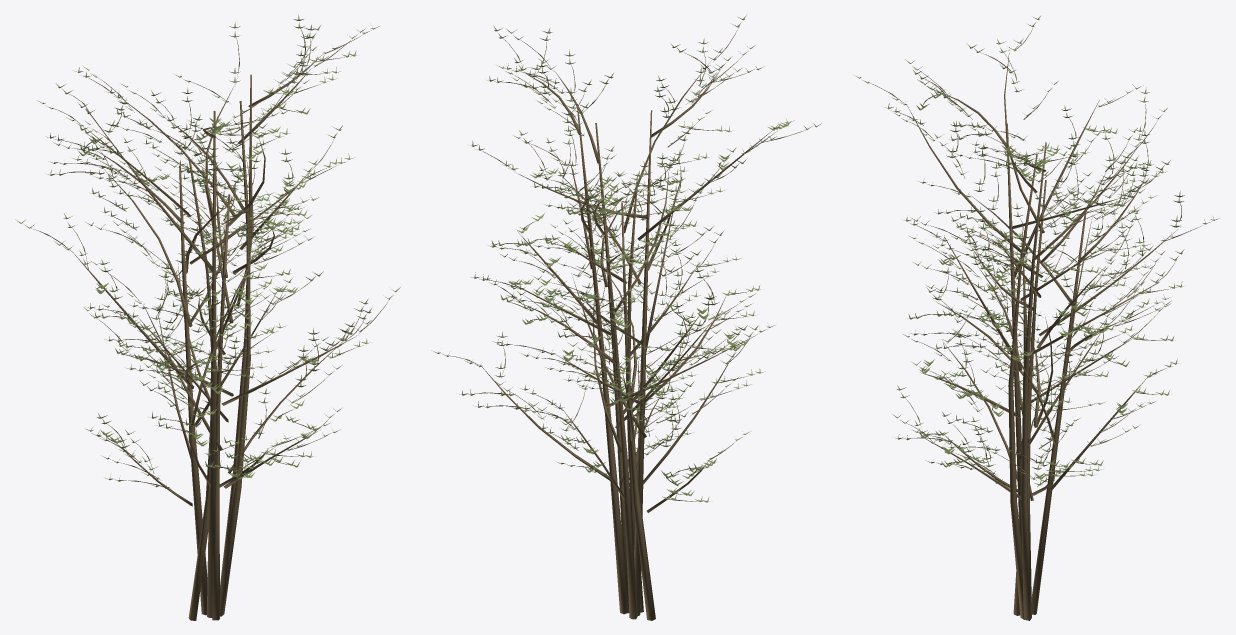
File: Bruyere_1_LOD1.fbx
3 renders of one model, left to right at view 1: azimuth 30°, elevation 25°; view 2: azimuth 150°, elevation 25°; view 3: azimuth 270°, elevation 25°, orthographic. The views are drawn at different scales.
Visible parts, largest first — view 1: Bruyere_1_LOD1; view 2: Bruyere_1_LOD1; view 3: Bruyere_1_LOD1.
Part boxes in pixels (x1,y1,x2,y2): Bruyere_1_LOD1: [15, 14, 400, 620]; Bruyere_1_LOD1: [431, 14, 821, 620]; Bruyere_1_LOD1: [854, 15, 1219, 620].
Bounding box in the file's own units: 221 × 335 × 211.
